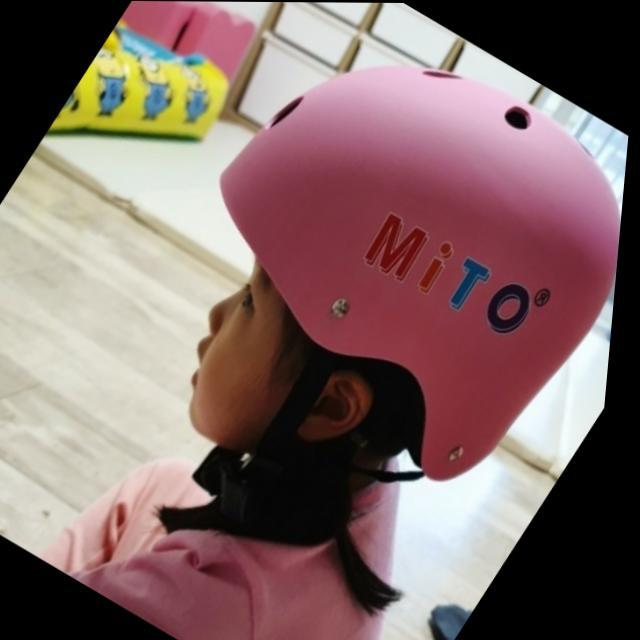Helmet: (160, 62, 620, 482)
